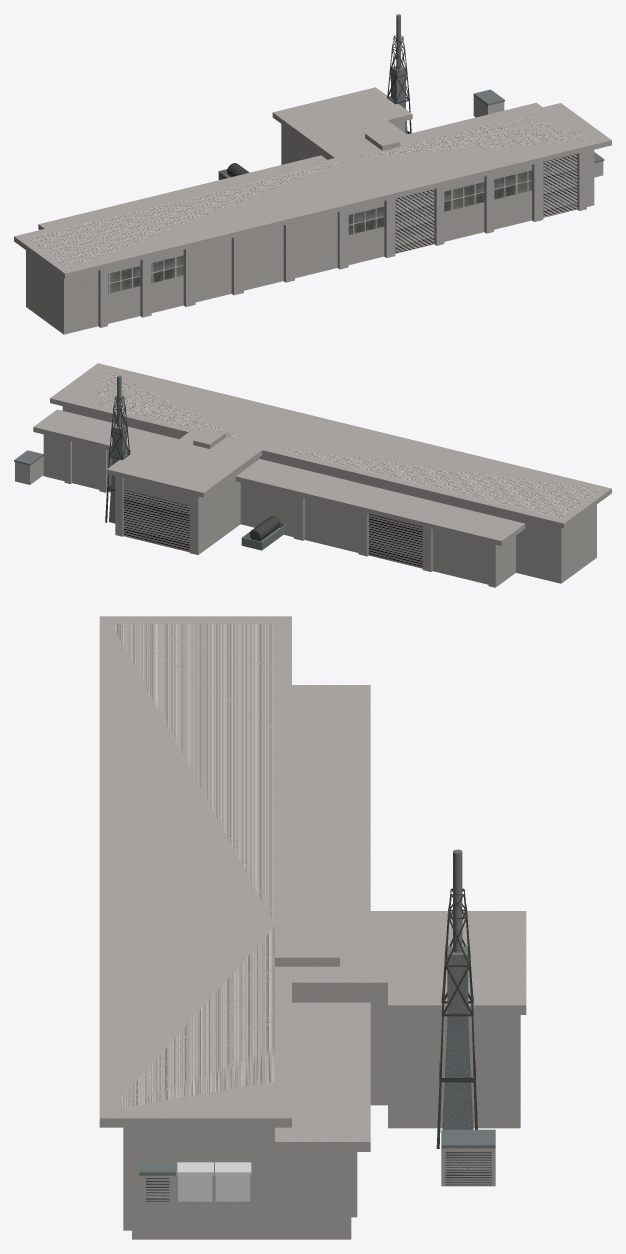
File: monodukuri.fbx
The picture shows the model from 3 angles, top to bottom: view 1: azimuth 30°, elevation 25°; view 2: azimuth 150°, elevation 25°; view 3: azimuth 270°, elevation 25°; orthographic projection. The views are drawn at different scales.
Visible parts, largest first — view 1: Cube, Cube.005, Cube.004, Cube.007; view 2: Cube, Cube.004, Cube.007, Cube.005, Cube.006, Cylinder; view 3: Cube, Cube.004, Cube.007, Cube.005, Cube.001, Cube.002, Cube.003.
Part boxes in pixels (x1,y1,x2,y2): Cube: (14, 87, 611, 334); Cube.005: (387, 35, 411, 133); Cube.004: (391, 14, 407, 134); Cube.007: (473, 89, 504, 117); Cube: (33, 363, 611, 587); Cube.004: (109, 375, 126, 523); Cube.007: (14, 450, 43, 484); Cube.005: (105, 395, 130, 522); Cube.006: (241, 522, 286, 550); Cylinder: (249, 516, 280, 541); Cube: (99, 616, 526, 1239); Cube.004: (442, 849, 473, 1129); Cube.007: (441, 1129, 495, 1186); Cube.005: (436, 888, 477, 1148); Cube.001: (139, 1162, 175, 1201); Cube.002: (177, 1162, 213, 1201); Cube.003: (215, 1162, 251, 1201).
Size of the model in its own units: 4293 by 1145 by 1534.
